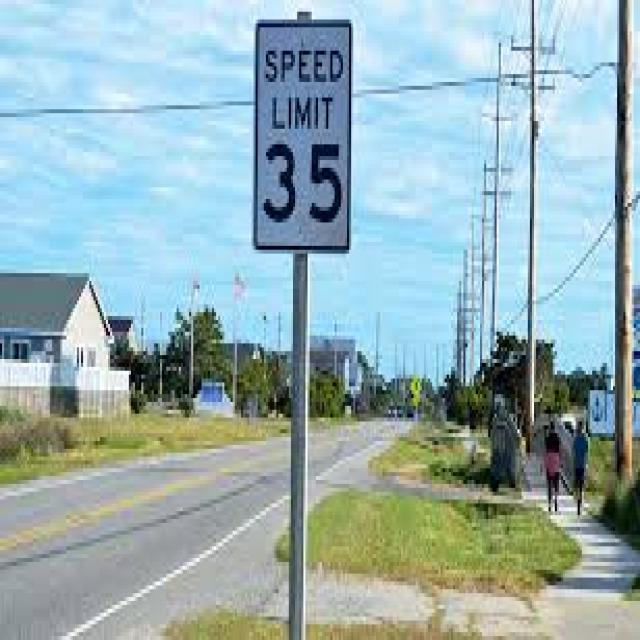speedLimit35: (252, 17, 353, 258)
